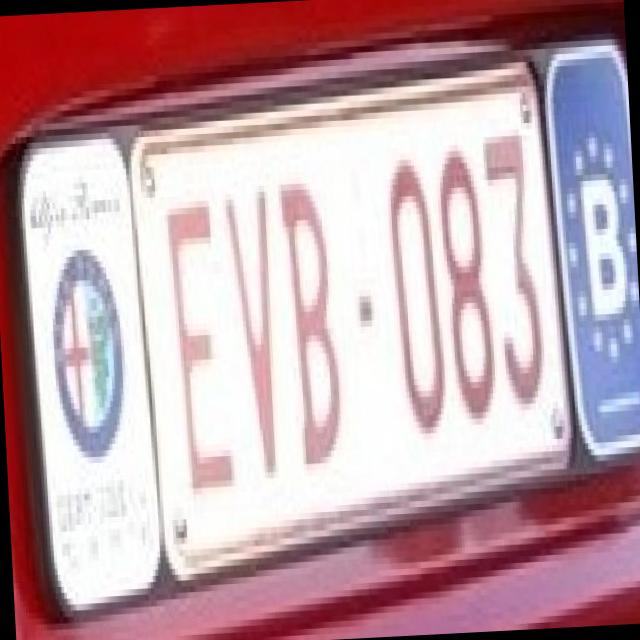0: (374, 140, 445, 436)
3: (464, 110, 558, 412)
8: (426, 131, 499, 415)
B: (268, 157, 346, 466)
E: (157, 182, 232, 489)
V: (215, 161, 285, 486)
